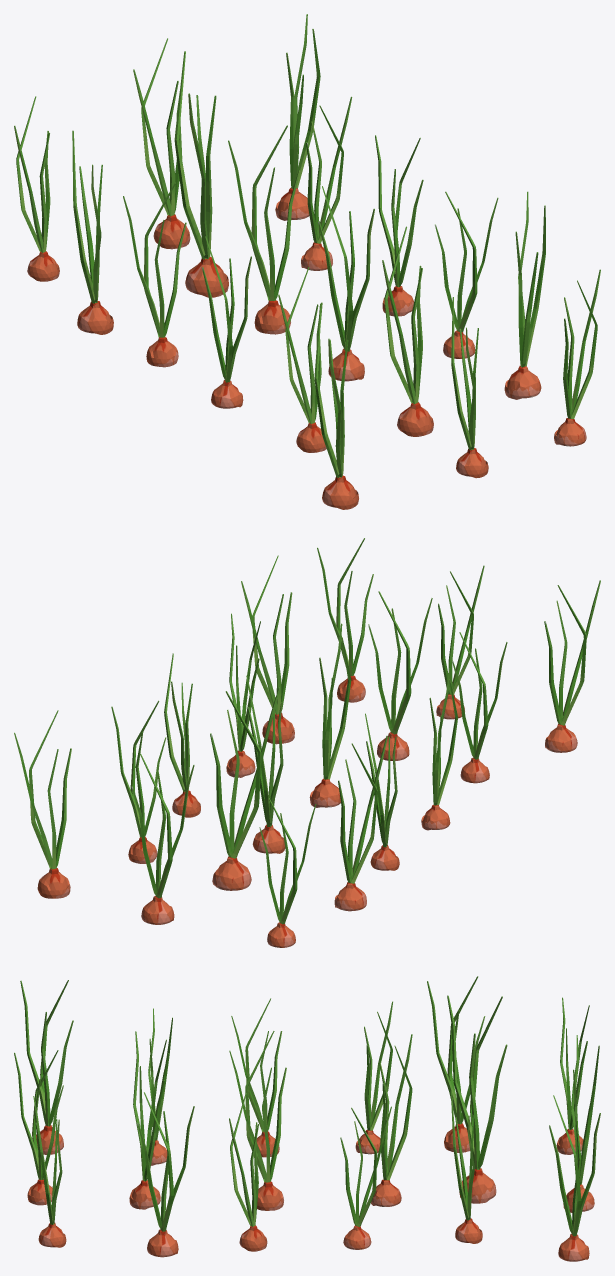
Rendered from liliaceae.glb.
3 renders of one model, top to bottom at view 1: azimuth 30°, elevation 25°; view 2: azimuth 150°, elevation 25°; view 3: azimuth 270°, elevation 25°, orthographic. The views are drawn at different scales.
Parts seen in each view (by area): view 1: Icosphere.014, Icosphere.002, Icosphere.004, Icosphere.012, Icosphere.003, Icosphere.019, Icosphere.005, Icosphere.017, Icosphere.013, Icosphere.020, Icosphere.011, Icosphere.018 (+6 smaller); view 2: Icosphere.014, Icosphere.019, Icosphere.013, Icosphere.017, Icosphere.012, Icosphere.005, Icosphere.004, Icosphere.003, Icosphere.002, Icosphere.016, Icosphere.011, Icosphere.015 (+6 smaller); view 3: Icosphere.014, Icosphere.003, Icosphere.013, Icosphere.005, Icosphere.002, Icosphere.004, Icosphere.017, Icosphere.001, Icosphere.019, Icosphere, Icosphere.020, Icosphere.015 (+6 smaller).
Boxes of the visible parts, <box> form: Icosphere.014: <box>174,51,228,297</box>; Icosphere.002: <box>228,125,299,334</box>; Icosphere.004: <box>382,226,433,436</box>; Icosphere.012: <box>133,38,190,249</box>; Icosphere.003: <box>318,186,374,381</box>; Icosphere.019: <box>72,130,113,334</box>; Icosphere.005: <box>504,191,545,399</box>; Icosphere.017: <box>314,303,358,509</box>; Icosphere.013: <box>275,14,320,220</box>; Icosphere.020: <box>123,182,186,367</box>; Icosphere.011: <box>554,269,600,446</box>; Icosphere.018: <box>14,96,59,281</box>; Icosphere.014: <box>210,687,279,890</box>; Icosphere.019: <box>334,735,387,911</box>; Icosphere.013: <box>14,710,71,898</box>; Icosphere.017: <box>544,580,600,752</box>; Icosphere.012: <box>131,753,194,924</box>; Icosphere.005: <box>241,555,294,744</box>; Icosphere.004: <box>368,591,432,760</box>; Icosphere.003: <box>309,623,351,807</box>; Icosphere.002: <box>246,675,285,853</box>; Icosphere.016: <box>452,632,507,783</box>; Icosphere.011: <box>317,538,373,702</box>; Icosphere.015: <box>111,700,166,863</box>; Icosphere.014: <box>447,995,507,1203</box>; Icosphere.003: <box>229,1031,286,1210</box>; Icosphere.013: <box>549,1095,600,1261</box>; Icosphere.005: <box>137,1092,194,1257</box>; Icosphere.002: <box>371,1034,412,1206</box>; Icosphere.004: <box>129,1031,166,1209</box>; Icosphere.017: <box>20,980,73,1154</box>; Icosphere.001: <box>229,1093,267,1251</box>; Icosphere.019: <box>427,976,485,1152</box>; Icosphere: <box>340,1106,391,1249</box>; Icosphere.020: <box>355,1001,392,1154</box>; Icosphere.015: <box>451,1090,482,1243</box>.
Bounding box in the file's own units: 1.57 × 1.08 × 2.9.
36 materials, 36 textured.
